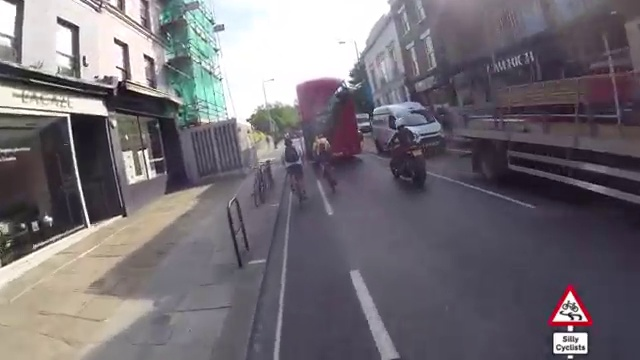cyclist_back: (382, 118, 432, 187), (279, 137, 311, 209), (311, 132, 341, 194)
